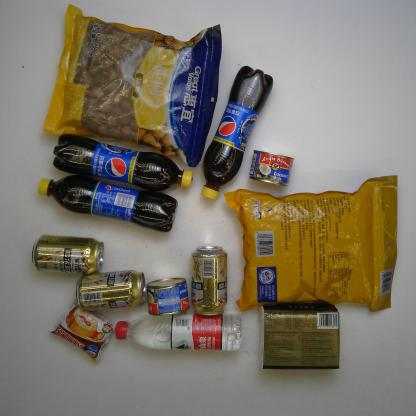Alcohol: (72, 268, 148, 312), (31, 233, 105, 276), (188, 245, 231, 318)
Canned Food: (248, 148, 295, 188), (145, 277, 191, 317)
Dessert: (50, 297, 118, 362)
Dried Food: (43, 2, 224, 170), (221, 173, 400, 314)
Drink: (199, 64, 276, 201), (36, 173, 180, 233), (52, 132, 194, 192), (113, 312, 245, 353)
Tissue: (254, 298, 343, 372)
